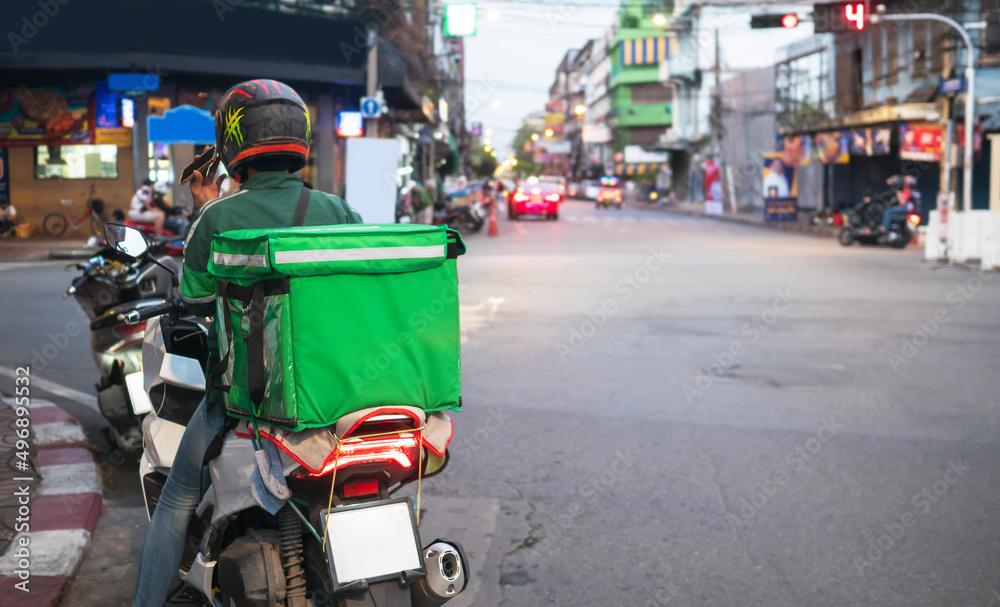helmet: (213, 77, 312, 185)
